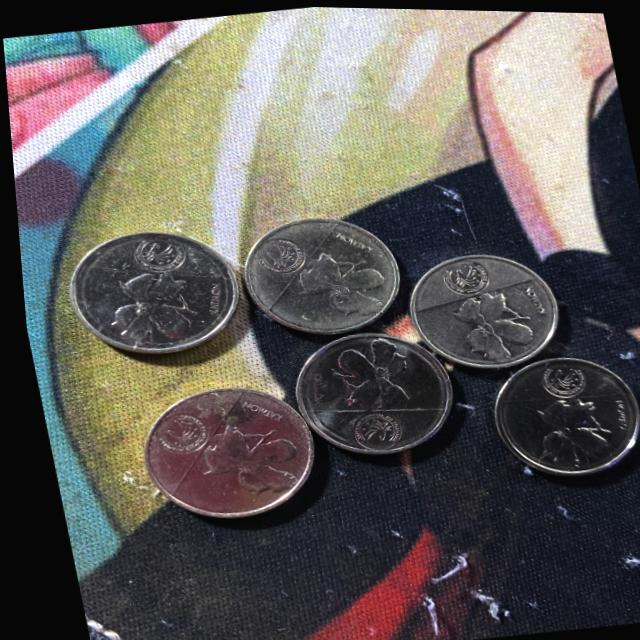25Cent_New_Back: (56, 221, 243, 358), (132, 381, 307, 522), (284, 320, 449, 455), (483, 346, 640, 484), (233, 209, 403, 335), (405, 245, 559, 370)
